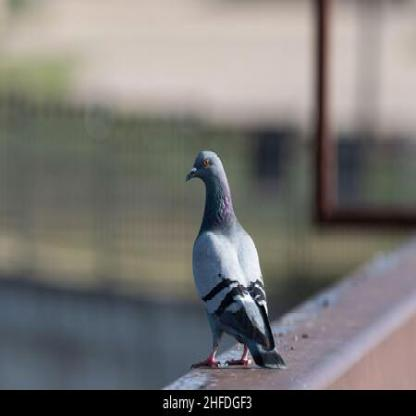Rock Pigeon: (183, 151, 286, 376)
